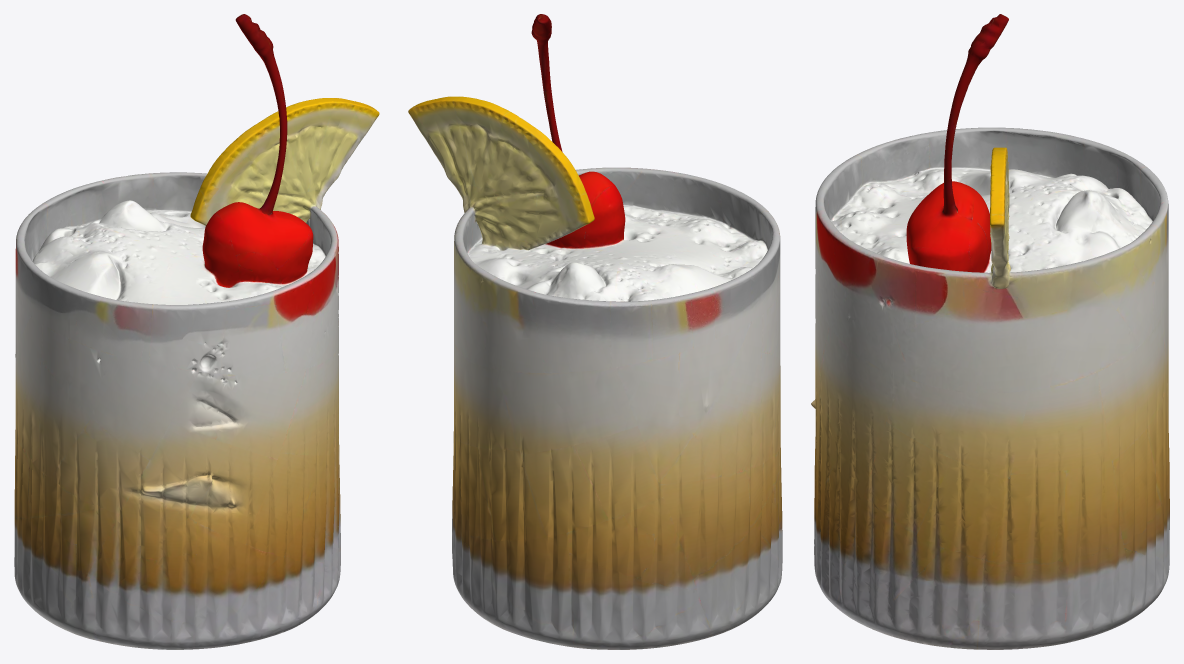
File: alibi-sour.glb
The picture shows the model from 3 angles, left to right: view 1: azimuth 30°, elevation 25°; view 2: azimuth 150°, elevation 25°; view 3: azimuth 270°, elevation 25°; orthographic projection. The views are drawn at different scales.
Visible parts, largest first — view 1: mesh_node; view 2: mesh_node; view 3: mesh_node.
Part boxes in pixels (x1=…): mesh_node: x1=14, y1=14, x2=379, y2=649; mesh_node: x1=408, y1=14, x2=782, y2=649; mesh_node: x1=811, y1=14, x2=1169, y2=649.
Bounding box in the file's own units: 0.0979 × 0.15 × 0.0809.
Materials: 1 (1 with a texture image).
